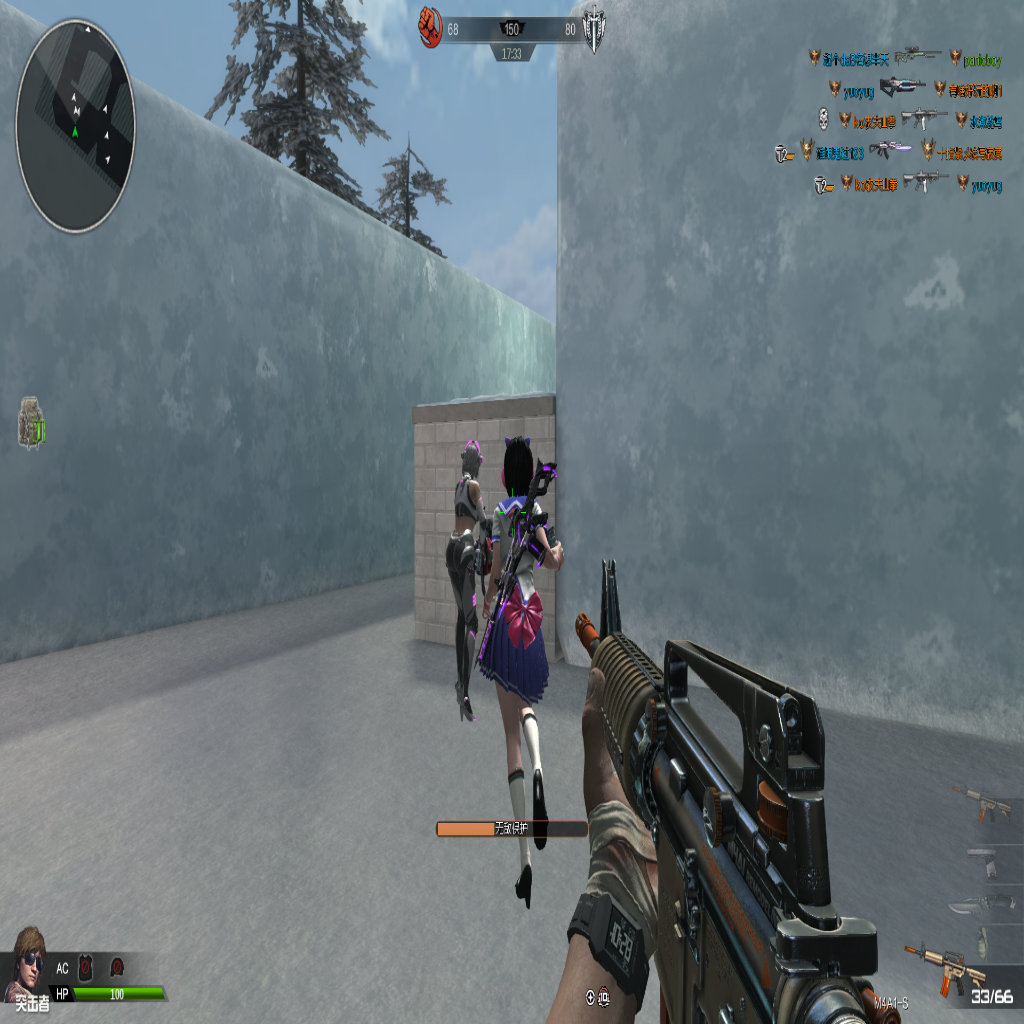tt: (479, 433, 566, 864), (447, 433, 489, 729)
